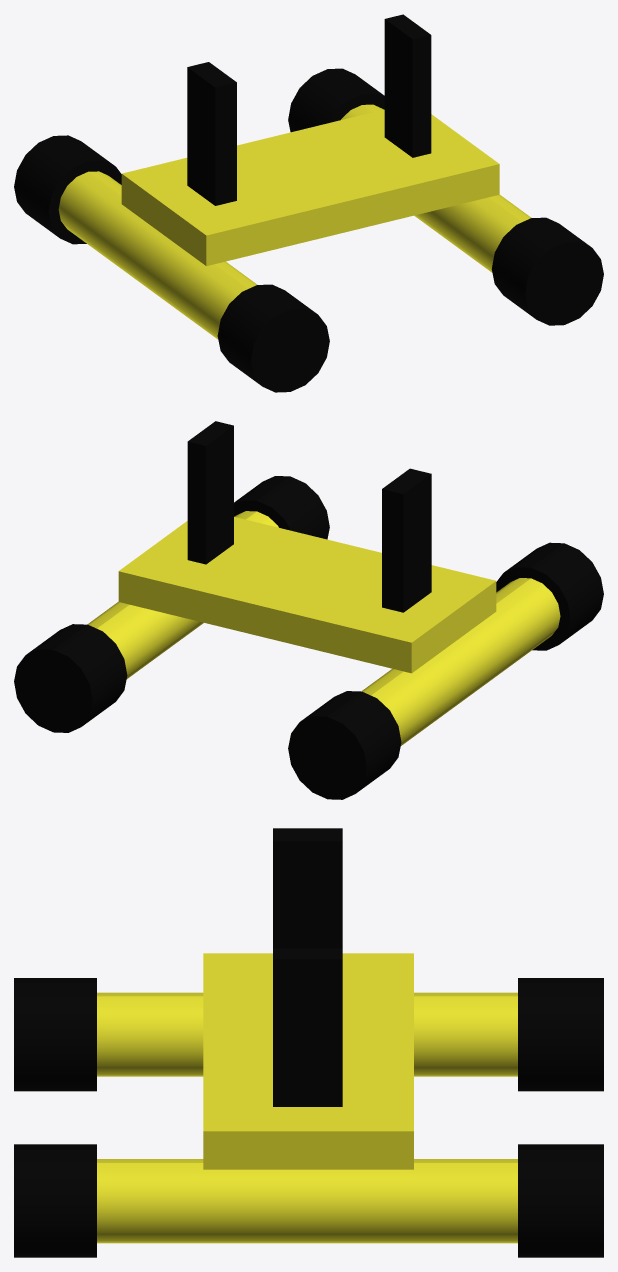
File: BottomFloodLightfbx.fbx
The picture shows the model from 3 angles, top to bottom: view 1: azimuth 30°, elevation 25°; view 2: azimuth 150°, elevation 25°; view 3: azimuth 270°, elevation 25°; orthographic projection. The views are drawn at different scales.
Visible parts, largest first — view 1: Cube; view 2: Cube; view 3: Cube.
Part boxes in pixels (left/top/right/bottom): Cube: left=14, top=14, right=603, bottom=392; Cube: left=14, top=421, right=603, bottom=799; Cube: left=14, top=828, right=603, bottom=1257.
Bounding box in the file's own units: 1204 × 721 × 1400.
